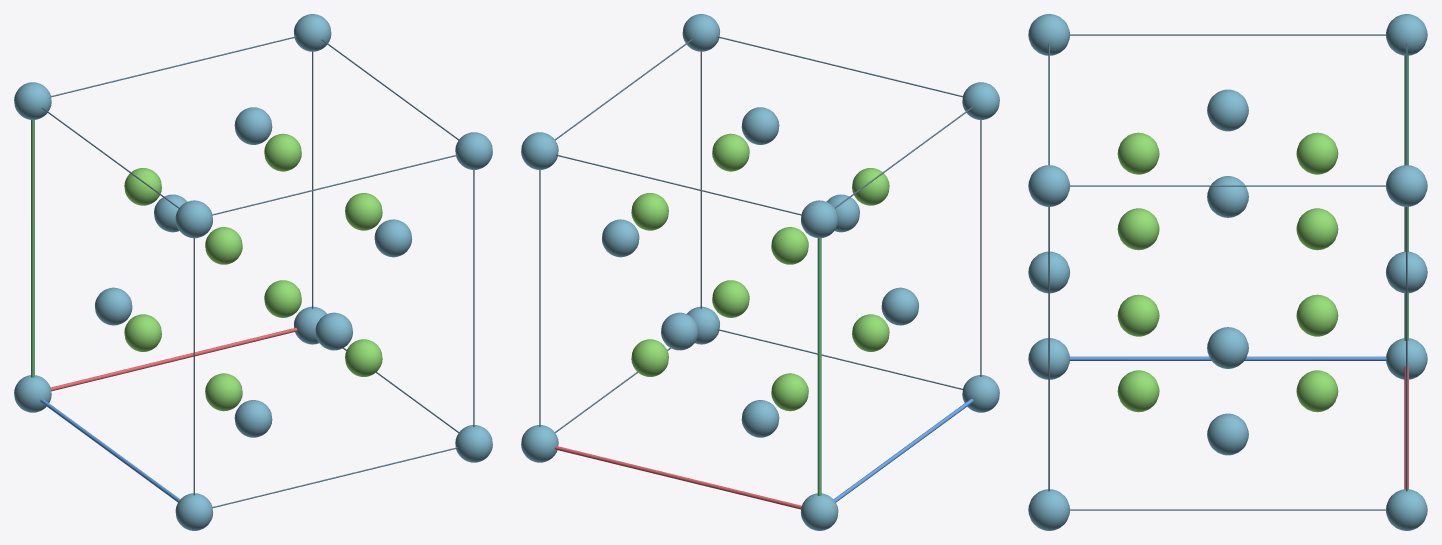
The model's file is fluorite.glb.
3 renders of one model, left to right at view 1: azimuth 30°, elevation 25°; view 2: azimuth 150°, elevation 25°; view 3: azimuth 270°, elevation 25°, orthographic. The views are drawn at different scales.
Visible parts, largest first — view 1: Ca · Ca · 1 (×14), F · F · 1 (×8), Ô mạng và các trục a, b, c; view 2: Ca · Ca · 1 (×14), F · F · 1 (×8), Ô mạng và các trục a, b, c; view 3: Ca · Ca · 1 (×14), F · F · 1 (×8), Ô mạng và các trục a, b, c.
Part boxes in pixels (<box>): Ca · Ca · 1 (×14): <box>14,14,492,530</box>; F · F · 1 (×8): <box>124,133,382,411</box>; Ô mạng và các trục a, b, c: <box>31,36,474,507</box>; Ca · Ca · 1 (×14): <box>521,14,999,530</box>; F · F · 1 (×8): <box>631,133,889,411</box>; Ô mạng và các trục a, b, c: <box>539,36,981,509</box>; Ca · Ca · 1 (×14): <box>1028,14,1427,530</box>; F · F · 1 (×8): <box>1117,132,1338,412</box>; Ô mạng và các trục a, b, c: <box>1048,34,1408,510</box>.
Bounding box in the file's own units: 6.1 × 6.1 × 6.1.
